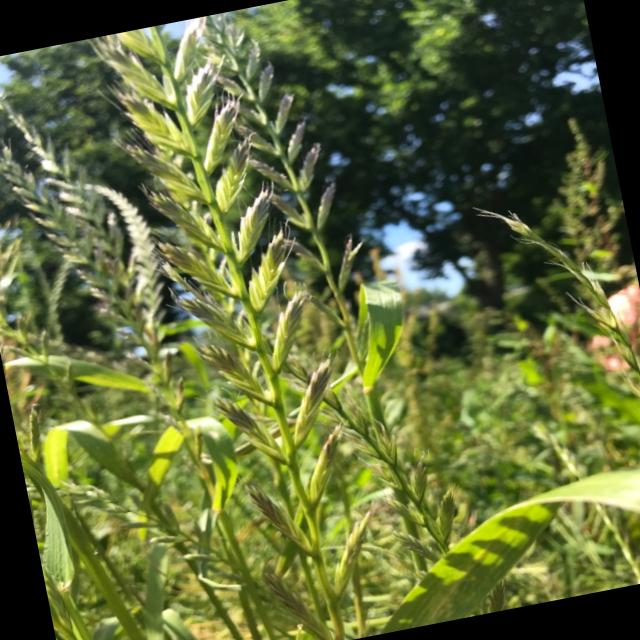Lolium: (0, 0, 475, 640), (116, 12, 328, 562), (190, 2, 352, 316), (483, 184, 640, 447)
